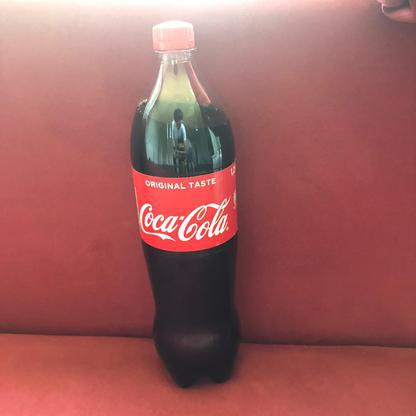coca-cola: (125, 18, 244, 389)
